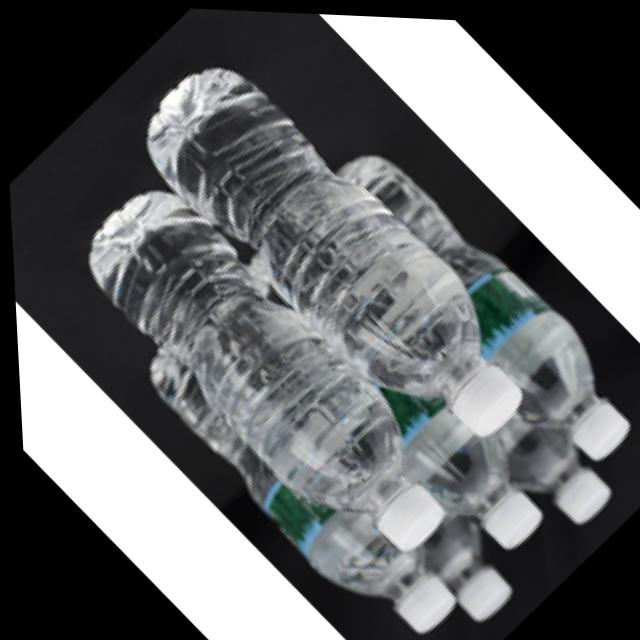plastic_water_bottles: (122, 41, 557, 480), (60, 167, 465, 577), (529, 356, 640, 476)
